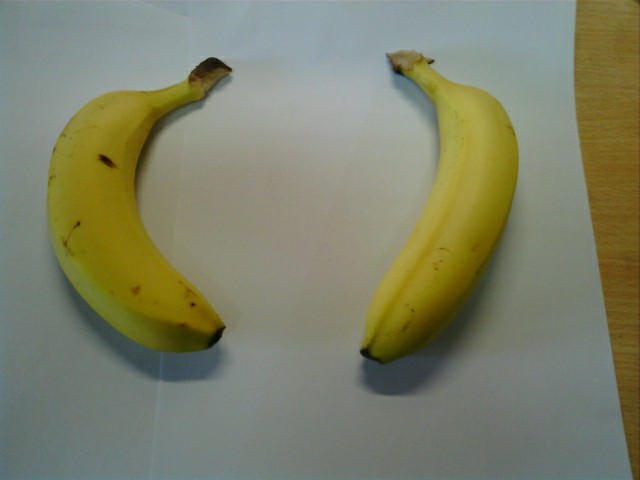fresh_banana: (359, 53, 519, 361)
normal_banana: (47, 75, 225, 352)
